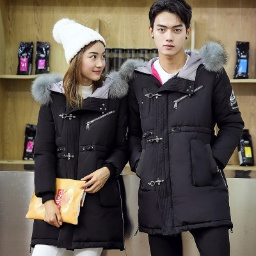face: (145, 1, 204, 69), (55, 33, 115, 99)
